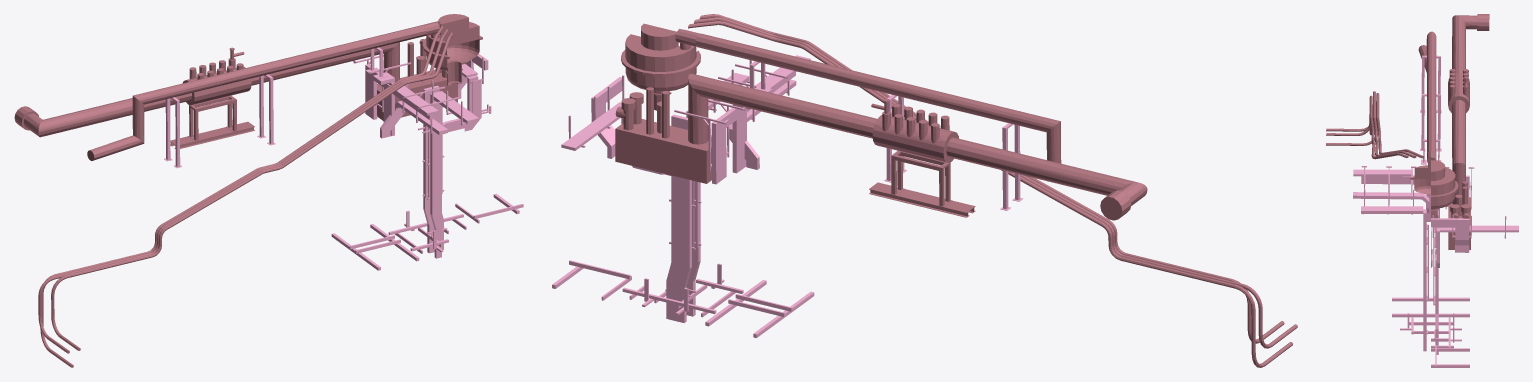
File: Serv-Z0-Sec5-cut4.glb
3 renders of one model, left to right at view 1: azimuth 30°, elevation 25°; view 2: azimuth 150°, elevation 25°; view 3: azimuth 270°, elevation 25°, orthographic. The views are drawn at different scales.
Parts seen in each view (by area): view 1: Serv-Z0-Sec5-Vent-cut4, Serv-Z0-Sec5-cut4, Serv-Z0-Sec5-Frames-cut4; view 2: Serv-Z0-Sec5-Vent-cut4, Serv-Z0-Sec5-cut4, Serv-Z0-Sec5-Frames-cut4; view 3: Serv-Z0-Sec5-Vent-cut4, Serv-Z0-Sec5-cut4, Serv-Z0-Sec5-Frames-cut4.
Part boxes in pixels (x1,y1,x2,y2): Serv-Z0-Sec5-Vent-cut4: (14,14,482,367); Serv-Z0-Sec5-cut4: (365,41,488,258); Serv-Z0-Sec5-Frames-cut4: (164,47,523,270); Serv-Z0-Sec5-Vent-cut4: (615,14,1297,367); Serv-Z0-Sec5-cut4: (561,55,810,322); Serv-Z0-Sec5-Frames-cut4: (552,60,1023,337); Serv-Z0-Sec5-Vent-cut4: (1326,14,1489,249); Serv-Z0-Sec5-cut4: (1353,169,1518,354); Serv-Z0-Sec5-Frames-cut4: (1361,55,1506,367).
Size of the model in its own units: 18.62 by 8.03 by 7.09.
